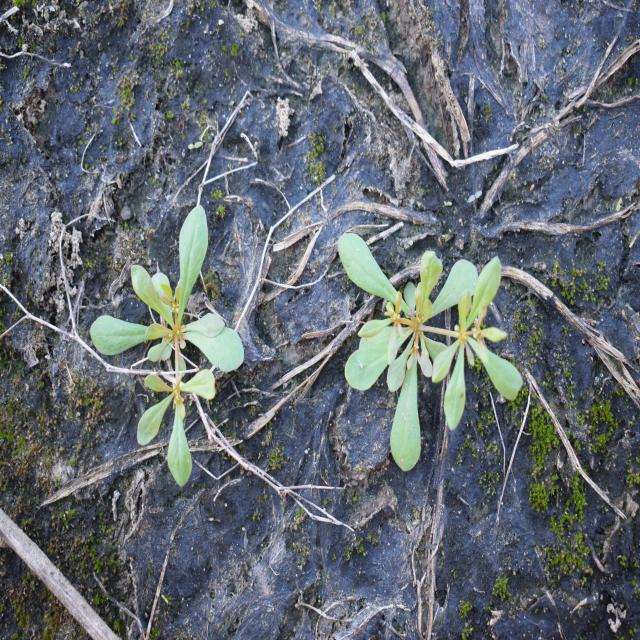Carpetweed: (335, 231, 526, 475), (88, 204, 247, 490)
